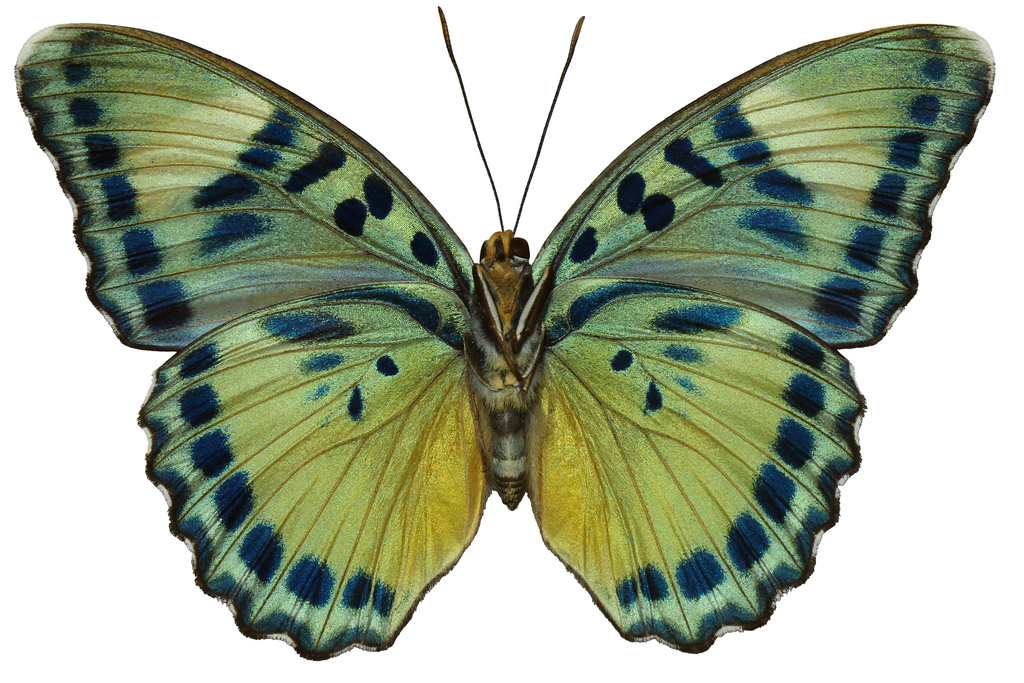Butterfly: (6, 3, 1004, 667)
